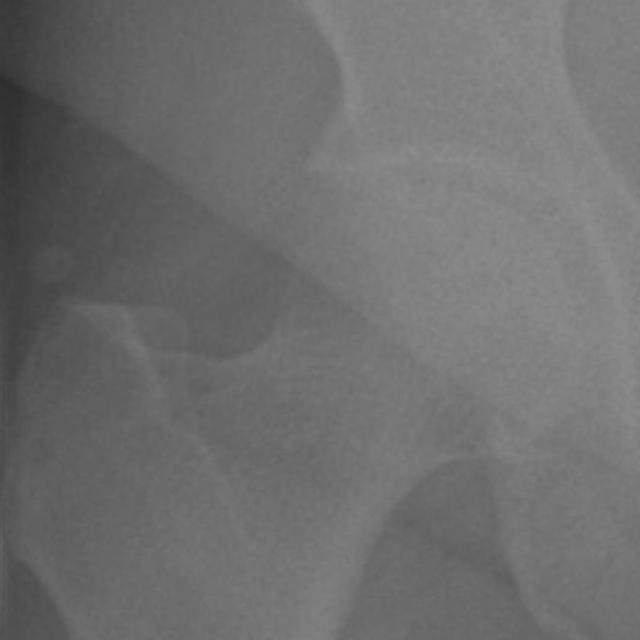Fitted_femural_head: (295, 182, 432, 295)
